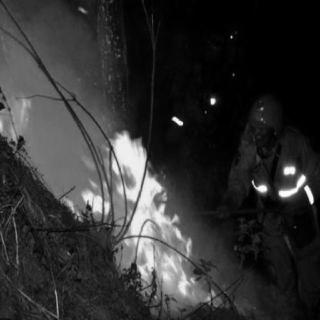other: (250, 156, 312, 206), (202, 94, 218, 114)
